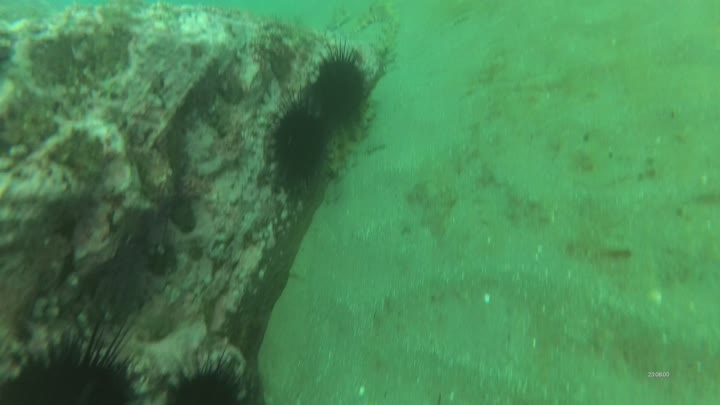echinus: (3, 313, 145, 405), (258, 88, 332, 195), (301, 38, 372, 137), (163, 348, 252, 405)
